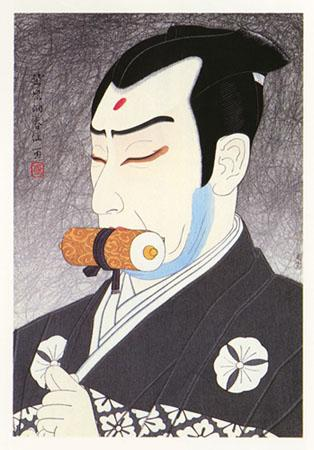person: (33, 38, 305, 437)
